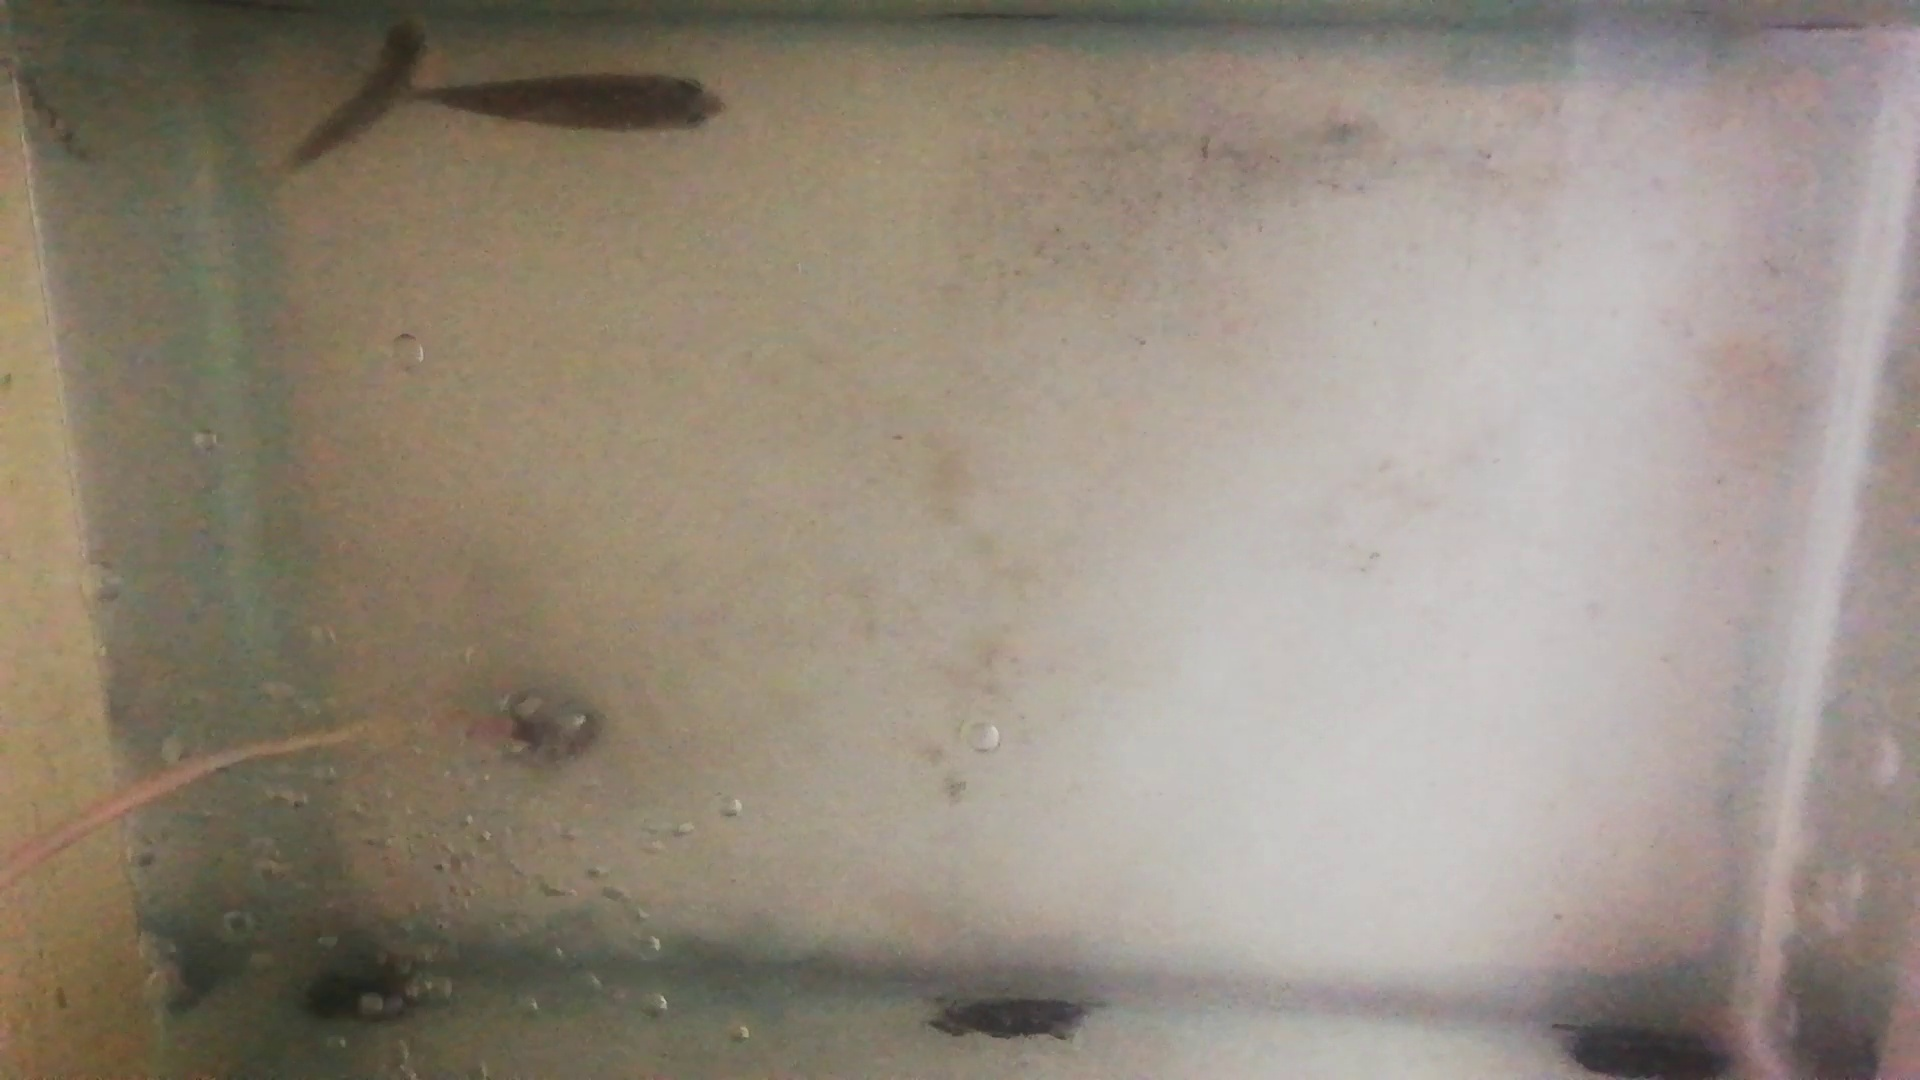fish: (289, 11, 430, 185), (422, 73, 728, 138)
